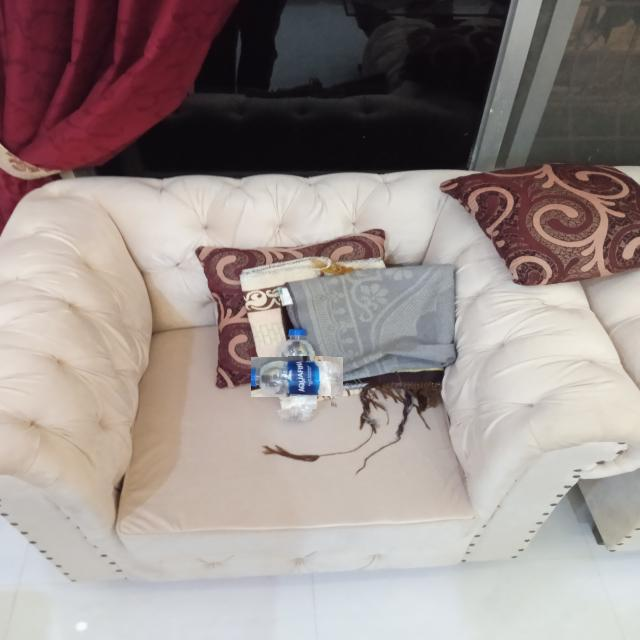Plastic: (264, 344, 331, 410)
